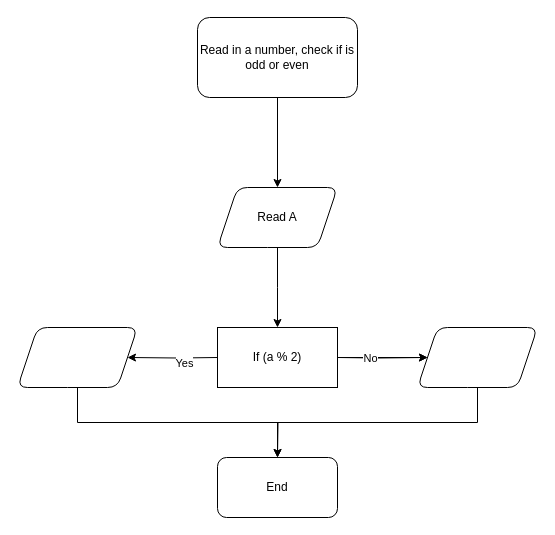
The diagram is 555 pixels wide and 535 high, and some of its shapes have lost their labels. Each missing label, with the box of its shape:
Print Even: (416, 326, 538, 388)
Print Odd: (16, 326, 138, 388)
